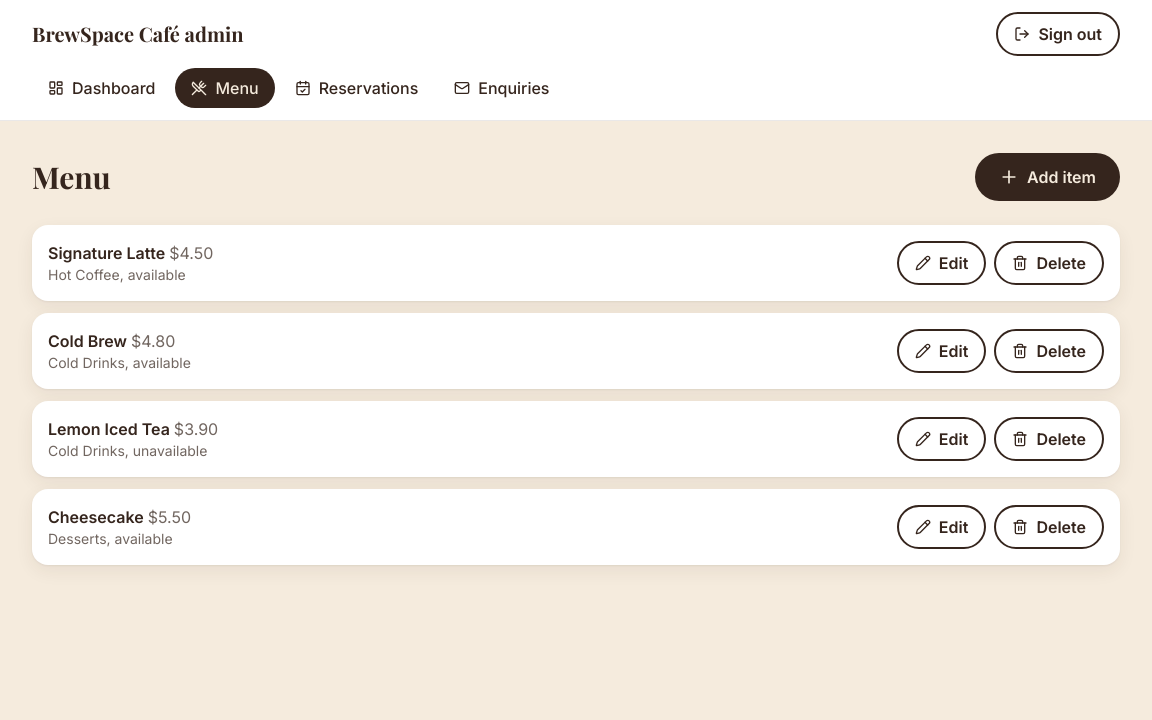
Test: admin menu management › requires confirmation before deleting; "Keep" cancels
Click the button with aria-label "Delete Cheesecake".
click(1049, 527)  # box [994, 505, 1104, 549]
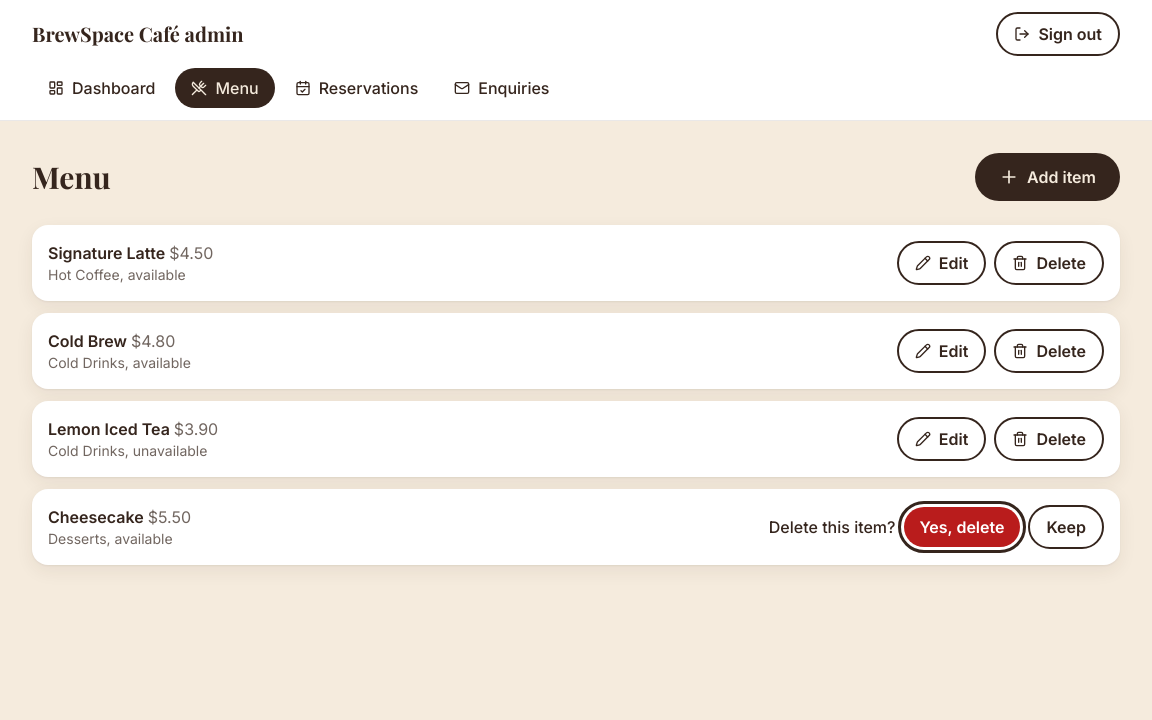
Click the button "Keep".
click(1066, 527)  # box [1028, 505, 1104, 549]
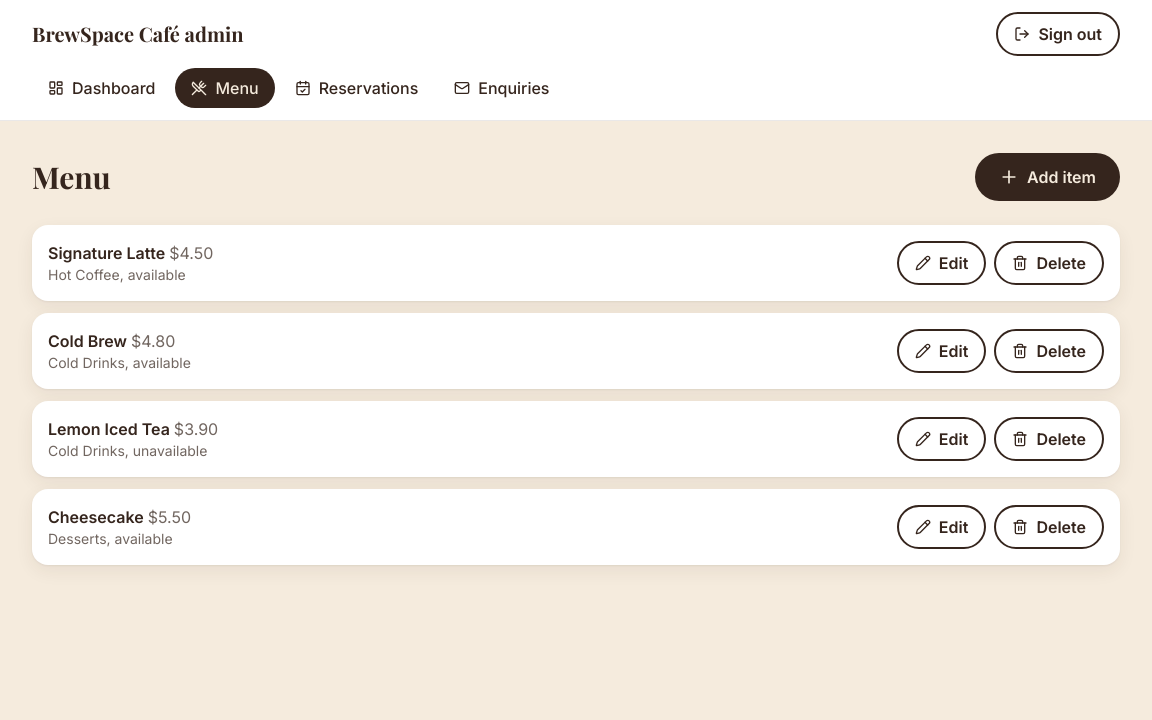
Click the button with aria-label "Delete Cheesecake".
click(1049, 527)  # box [994, 505, 1104, 549]
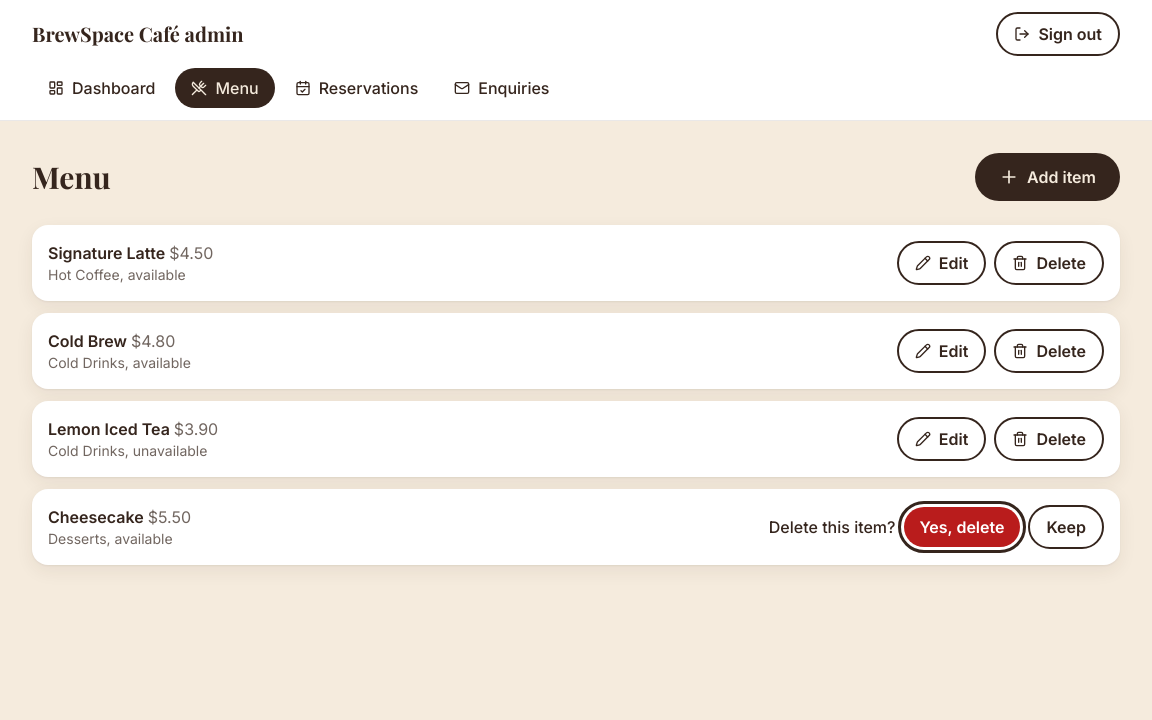
Click the button "Yes, delete".
click(962, 527)  # box [904, 507, 1020, 547]
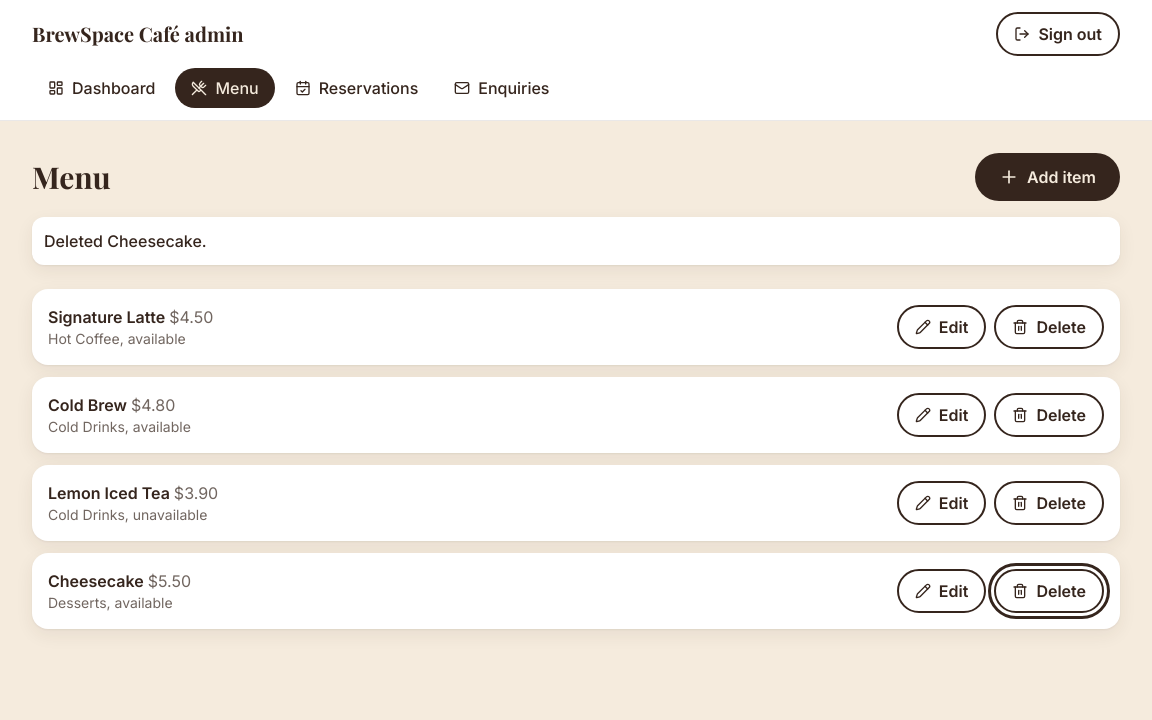
Expected: the message reads "Deleted Cheesecake.", [44, 231, 207, 251]
